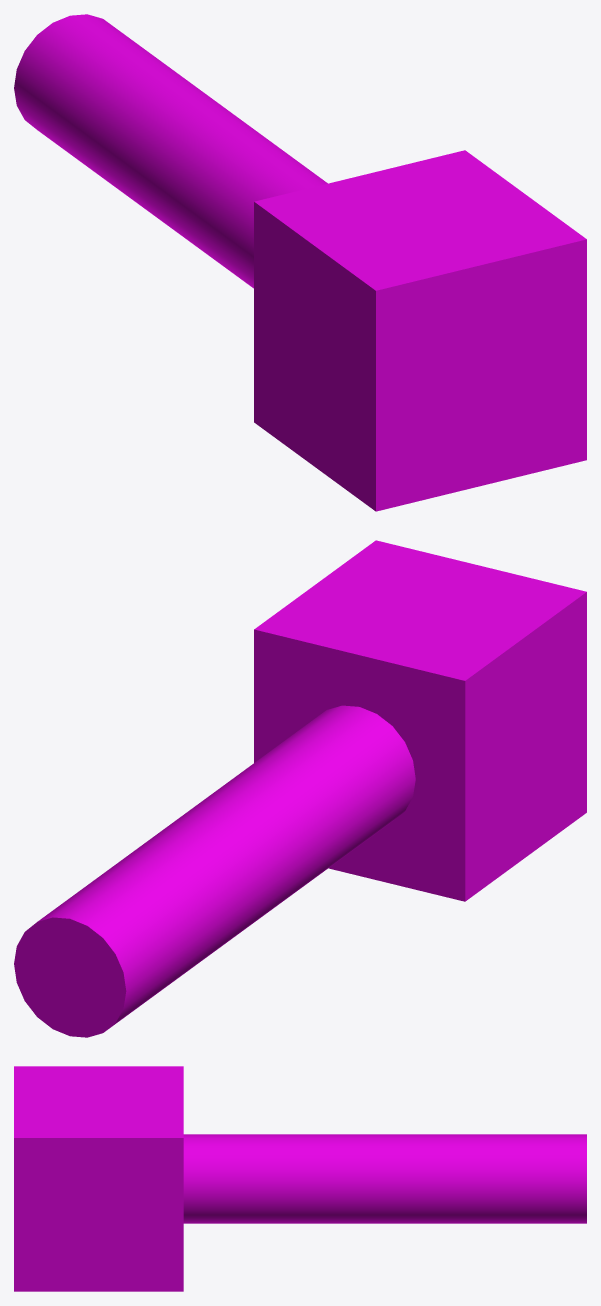
File: Player.fbx
The picture shows the model from 3 angles, top to bottom: view 1: azimuth 30°, elevation 25°; view 2: azimuth 150°, elevation 25°; view 3: azimuth 270°, elevation 25°; orthographic projection. The views are drawn at different scales.
Parts seen in each view (by area): view 1: pCylinder2; view 2: pCylinder2; view 3: pCylinder2.
Part boxes in pixels (box(x1,y1,x2,y2)): pCylinder2: box(14, 14, 586, 511); pCylinder2: box(14, 540, 586, 1037); pCylinder2: box(14, 1066, 586, 1291).
Bounding box in the file's own units: 1.81 × 1.81 × 6.12.
